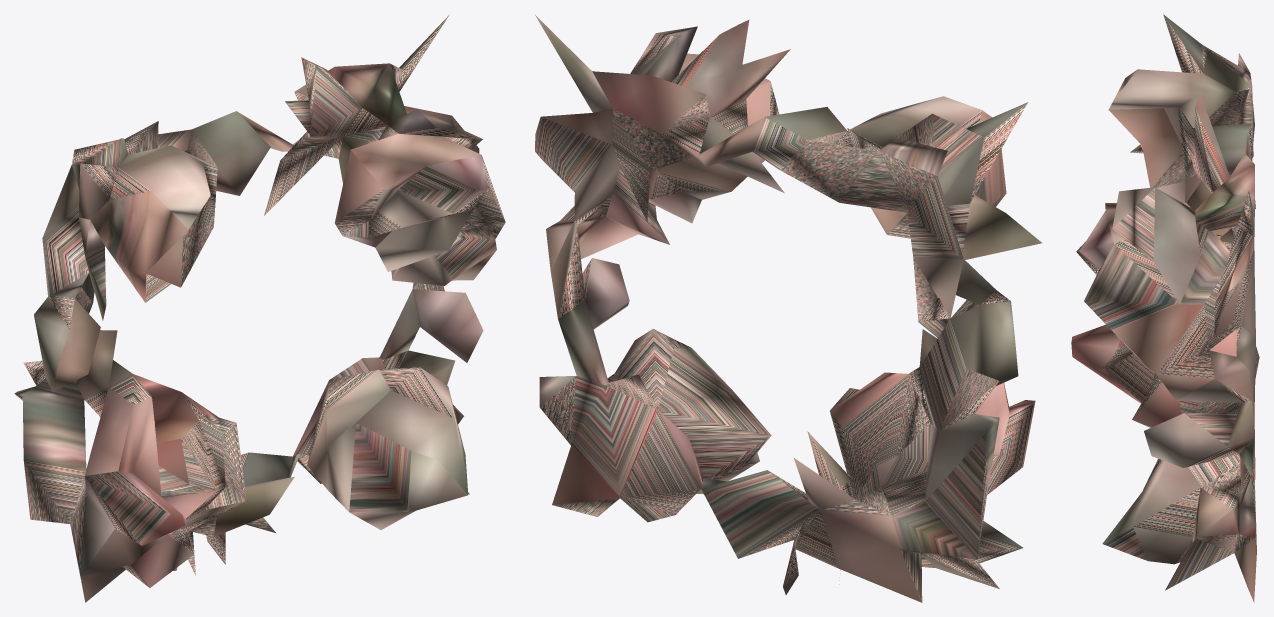
3 views of the same model, side by side, from view 1: azimuth 30°, elevation 25°; view 2: azimuth 150°, elevation 25°; view 3: azimuth 270°, elevation 25° (orthographic). The views are drawn at different scales.
Parts seen in each view (by area): view 1: Rose-Frame-9-13; view 2: Rose-Frame-9-13; view 3: Rose-Frame-9-13.
Part boxes in pixels (box(x1,y1,x2,y2)): Rose-Frame-9-13: box(14, 14, 505, 602); Rose-Frame-9-13: box(534, 14, 1042, 602); Rose-Frame-9-13: box(1071, 14, 1259, 602).
Size of the model in its own units: 0.2277 by 0.2474 by 0.0887.
Materials: 1 (1 with a texture image).
